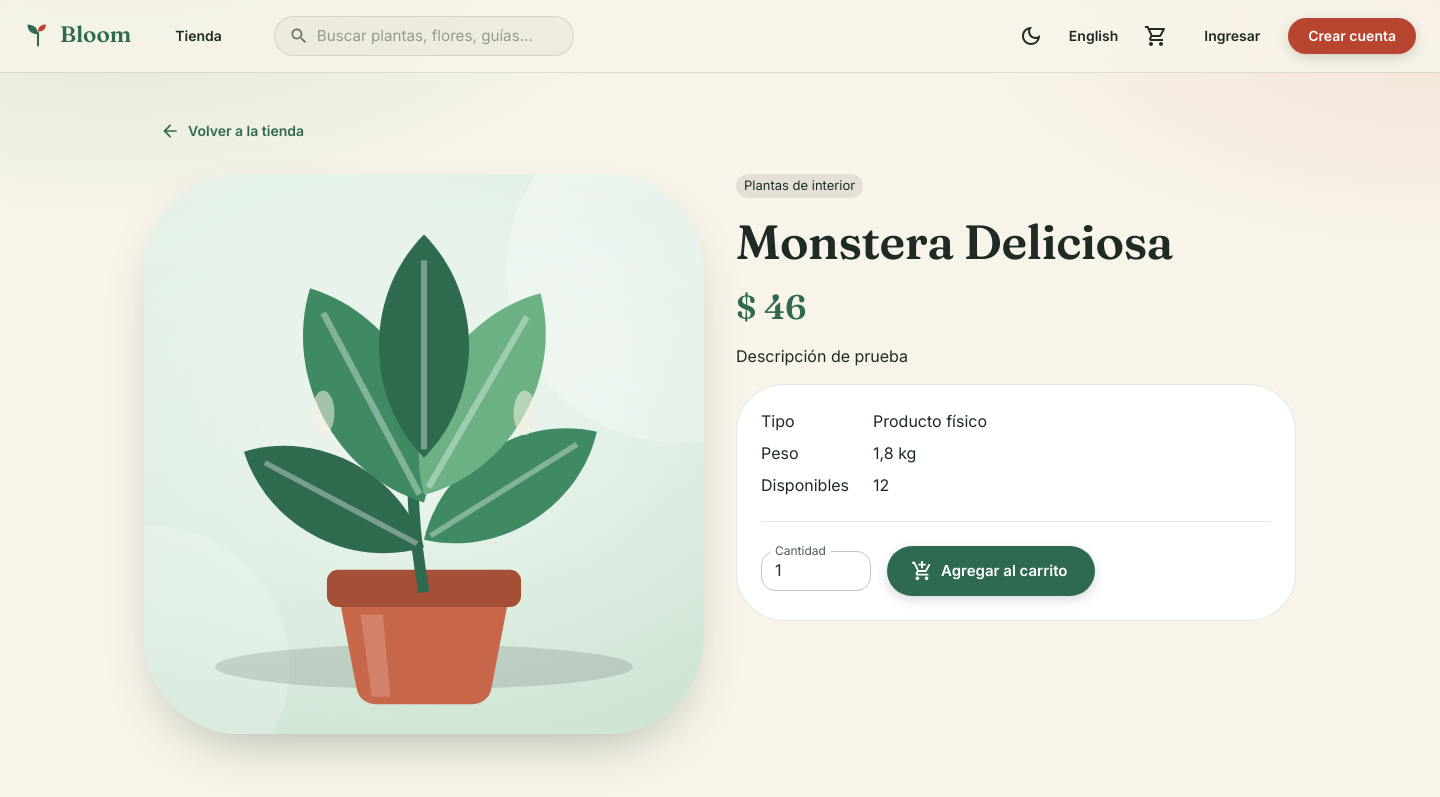
Test: checkout › should_send_anonymous_users_to_login_and_come_back_to_the_cart
The width and height of the screenshot is (1440, 797).
Click the button "Agregar al carrito" at (991, 571), box [887,546,1096,596]
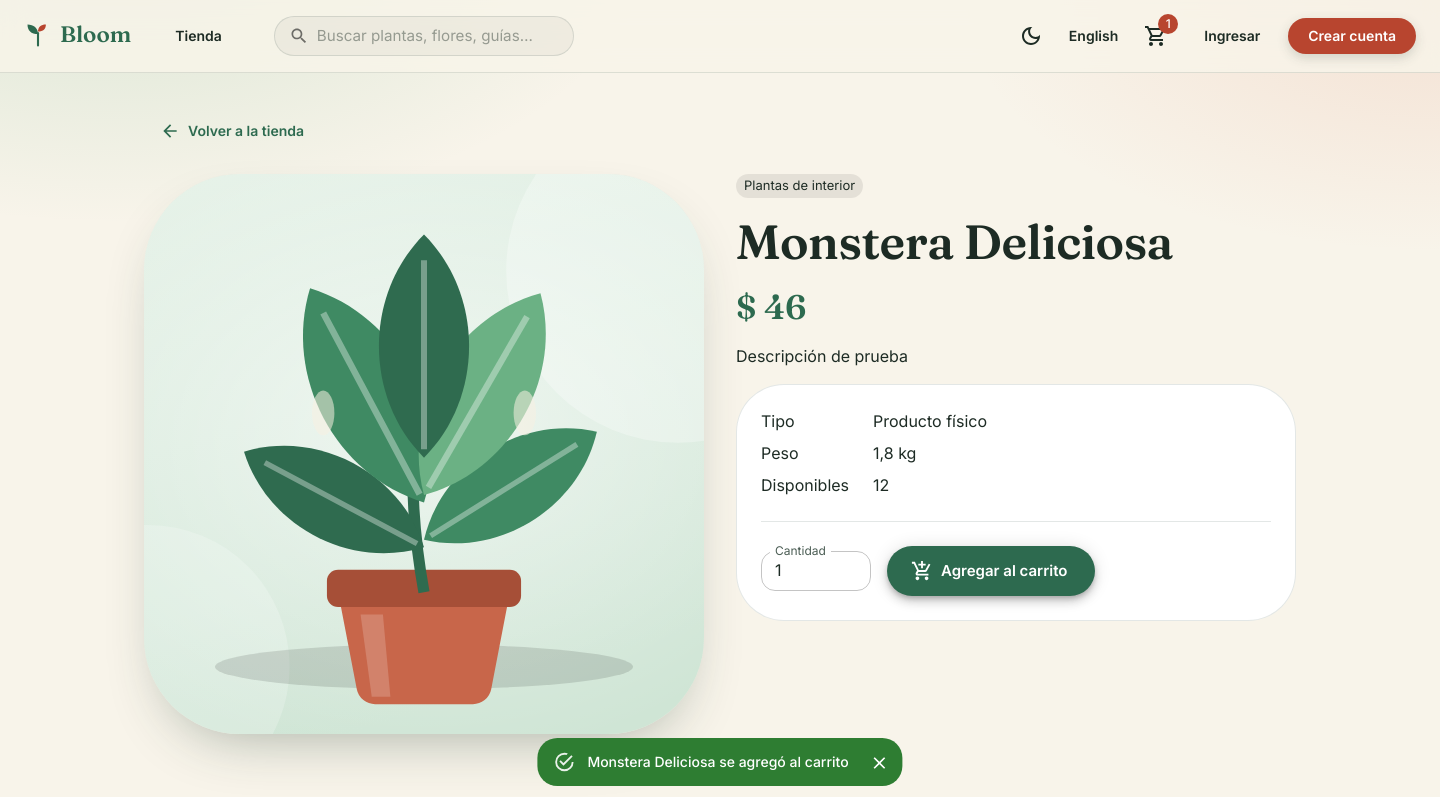
Click the link named "Carrito" at (1156, 36), box [1136,16,1176,56]
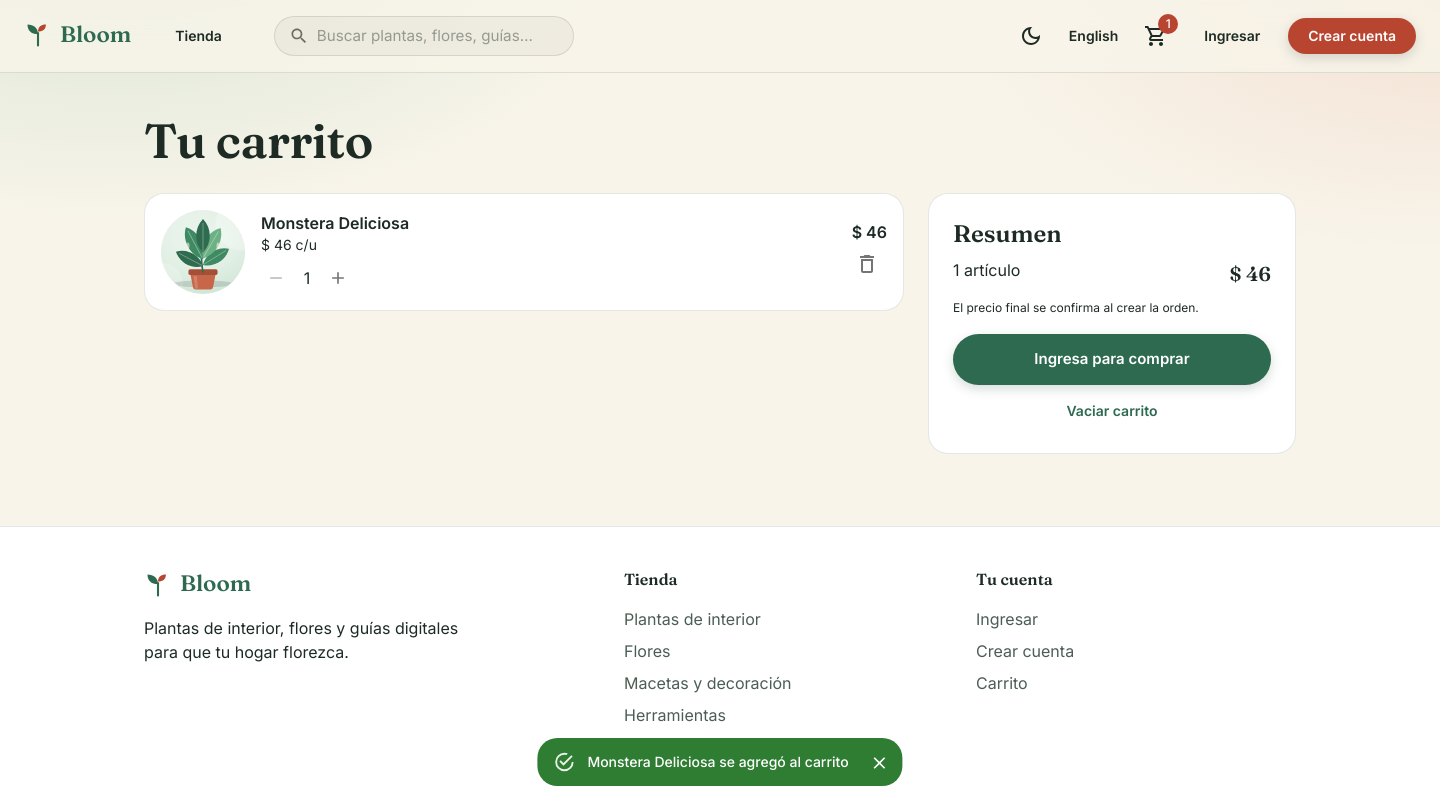
Click the button "Ingresa para comprar" at (1112, 359), box [953,334,1271,385]
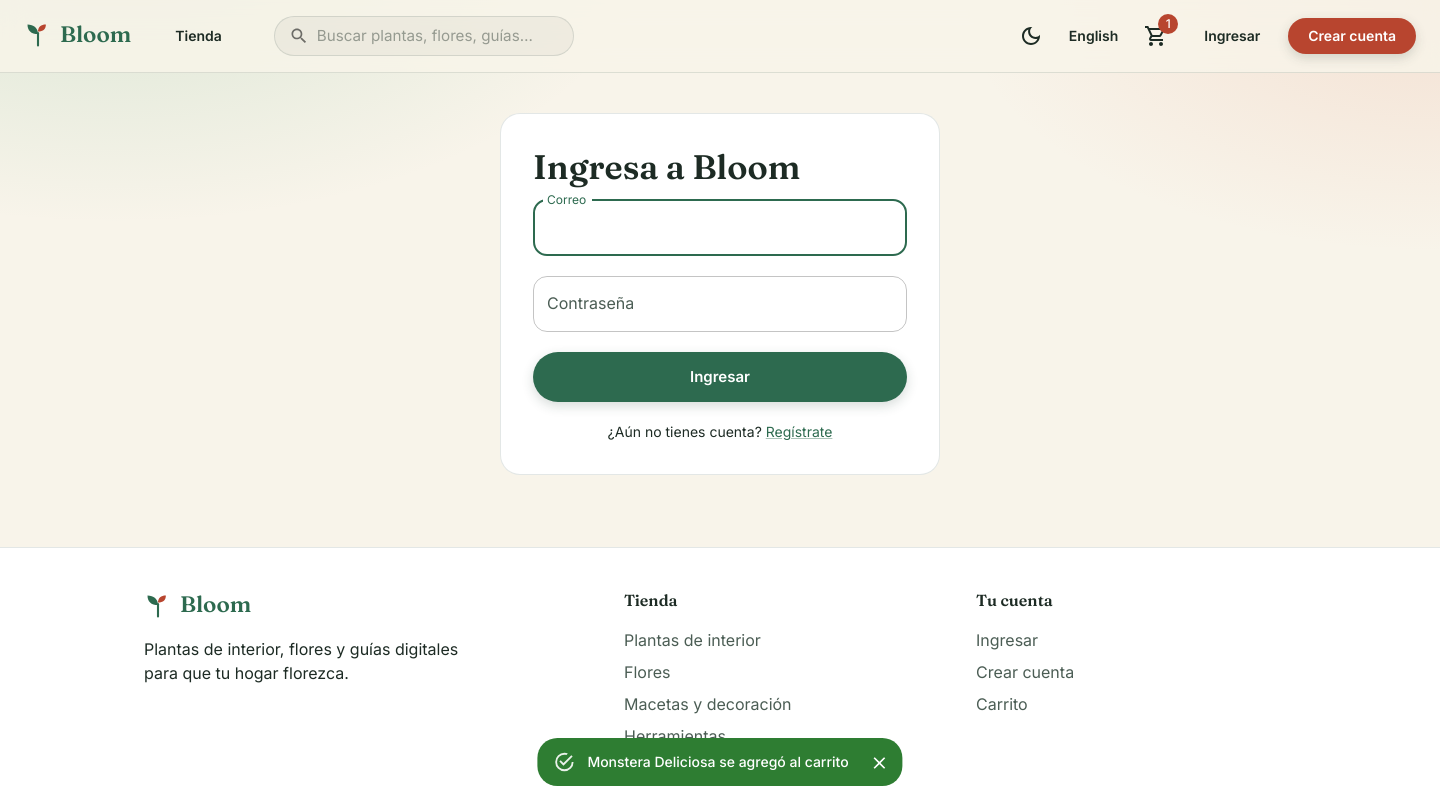
Type "cliente@bloom.test" into the field labelled "Correo" at (720, 228), box [533,200,907,256]
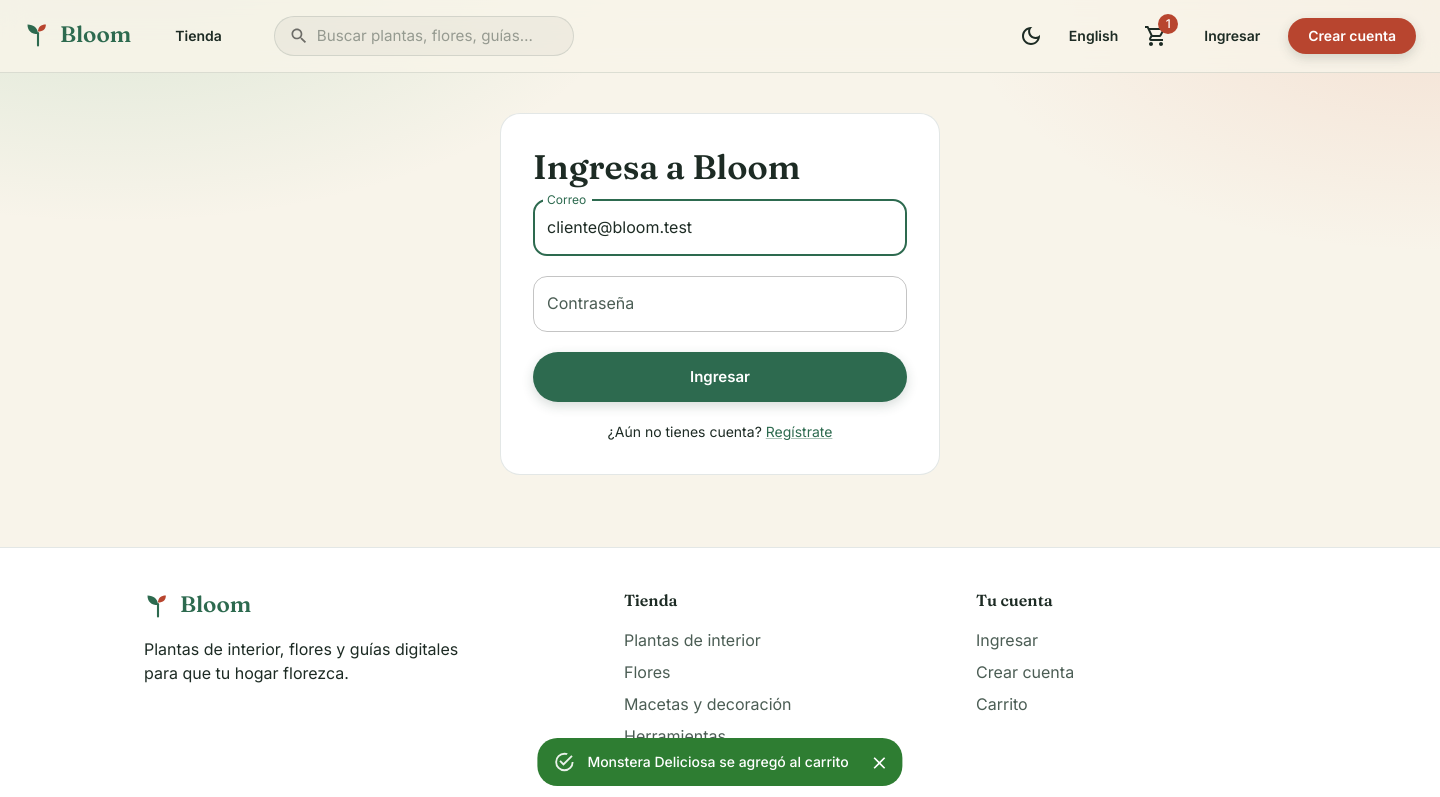
Type "Cliente123!" into the password field labelled "Contraseña" at (720, 304), box [533,276,907,332]
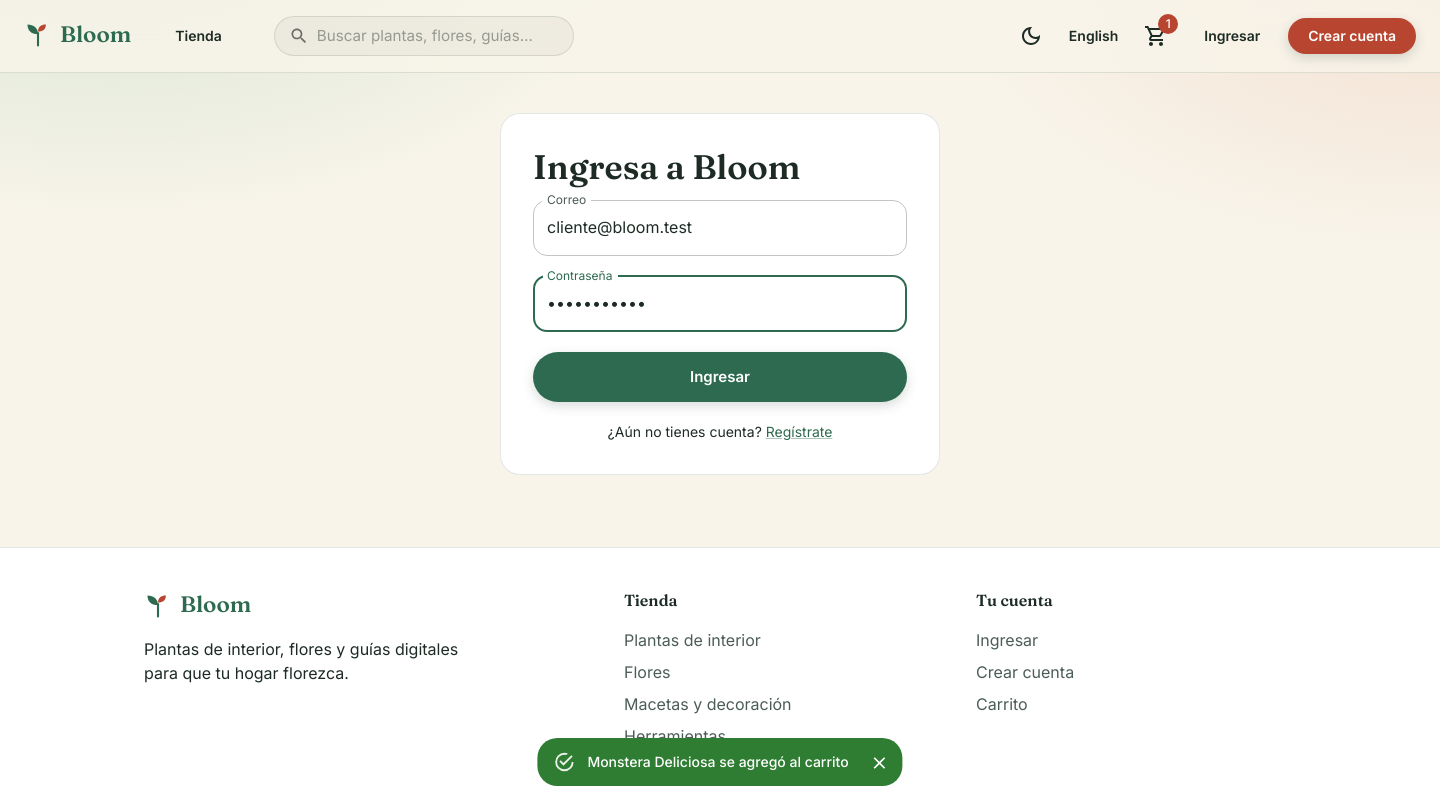
Click the button "Ingresar" at (720, 377), box [533,352,907,402]
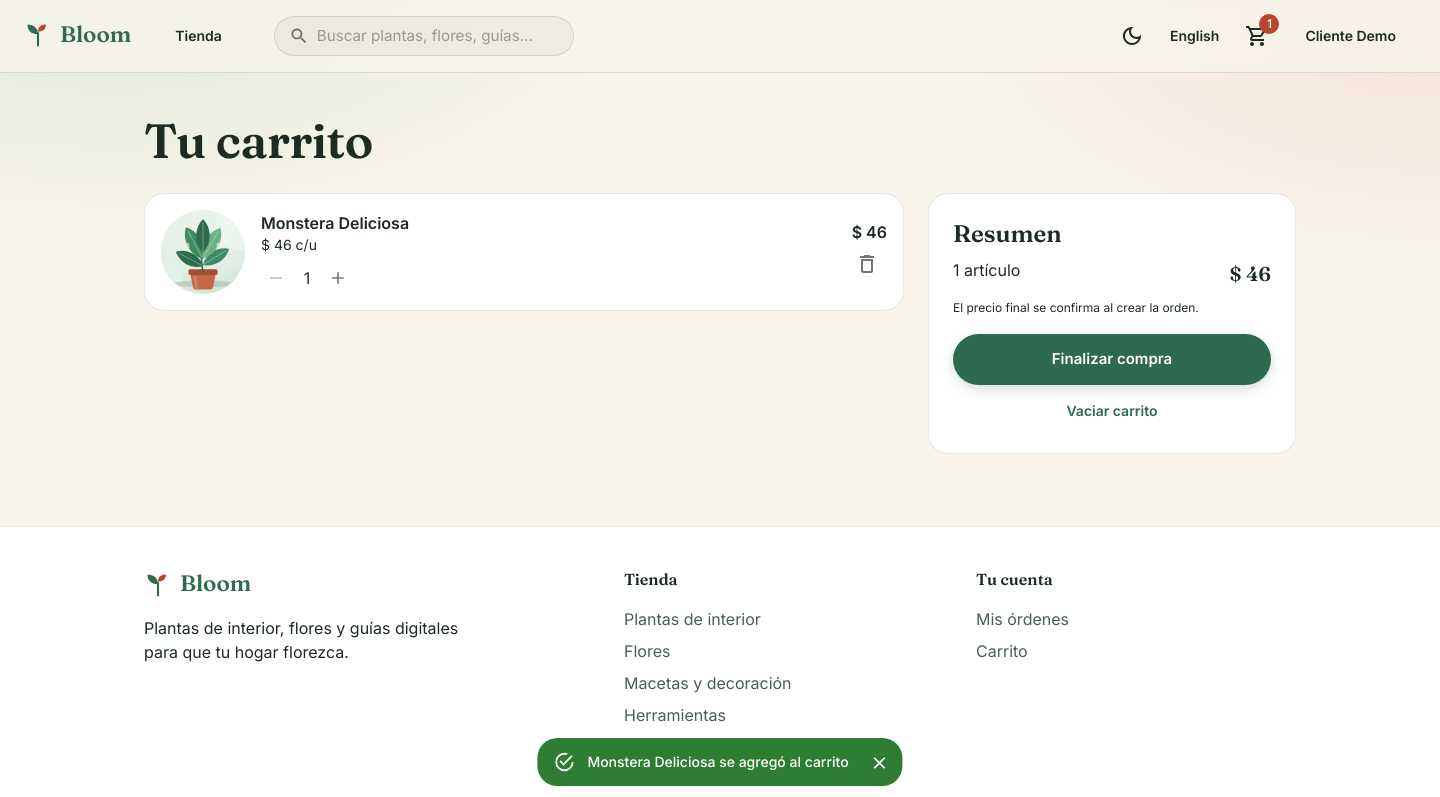
Result: the link "Monstera Deliciosa" is shown at [261,213,409,233]
